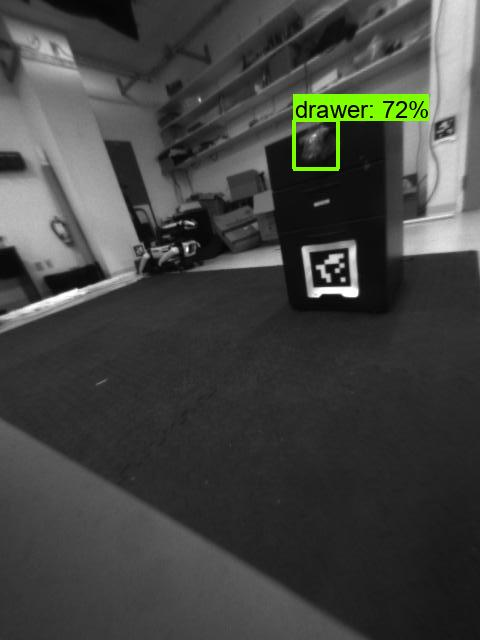drawer: (291, 124, 338, 165)
